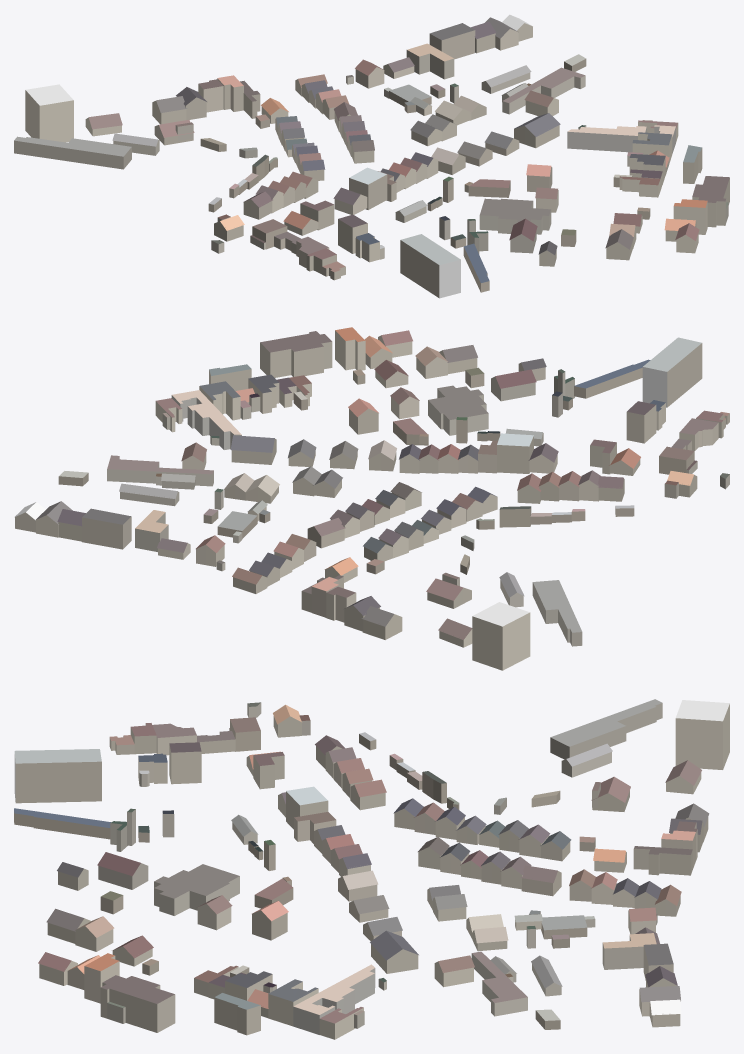
3 renders of one model, top to bottom at view 1: azimuth 30°, elevation 25°; view 2: azimuth 150°, elevation 25°; view 3: azimuth 270°, elevation 25°, orthographic. The views are drawn at different scales.
Parts seen in each view (by area): view 1: tuile; view 2: tuile; view 3: tuile.
Part boxes in pixels (x1,y1,x2,y2): tuile: [14, 14, 729, 298]; tuile: [14, 327, 729, 670]; tuile: [14, 699, 729, 1039].
Bounding box in the file's own units: 273 × 32.24 × 267.
